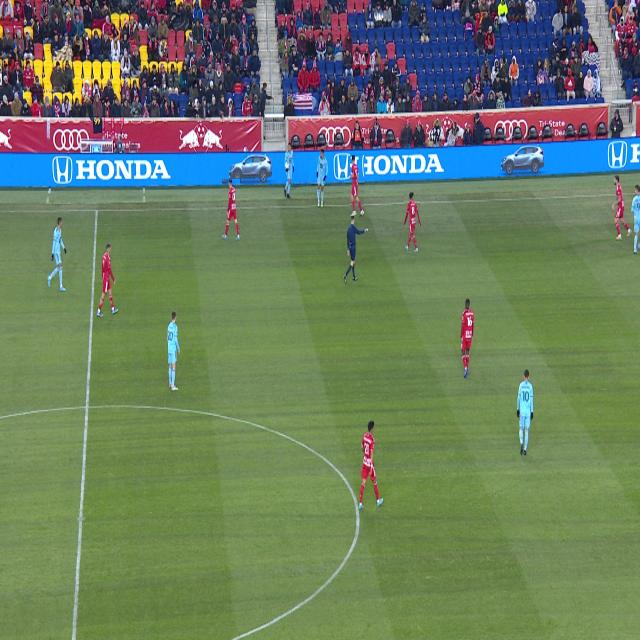player: (359, 420, 384, 510), (97, 243, 118, 317), (47, 217, 66, 291), (517, 370, 533, 455), (612, 175, 632, 240), (222, 180, 240, 241), (461, 298, 474, 378), (167, 311, 180, 391), (405, 193, 420, 252), (350, 155, 364, 216), (317, 149, 328, 208), (631, 185, 640, 254), (638, 242, 640, 251)
referee: (344, 214, 368, 283)
